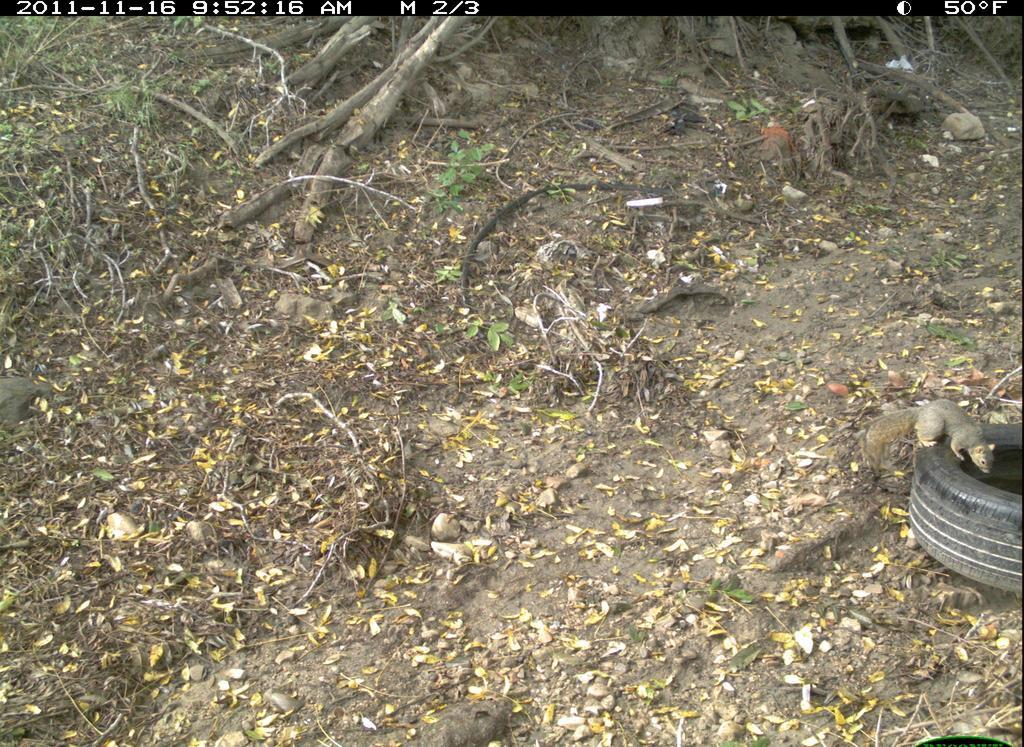squirrel: (850, 393, 998, 487)
